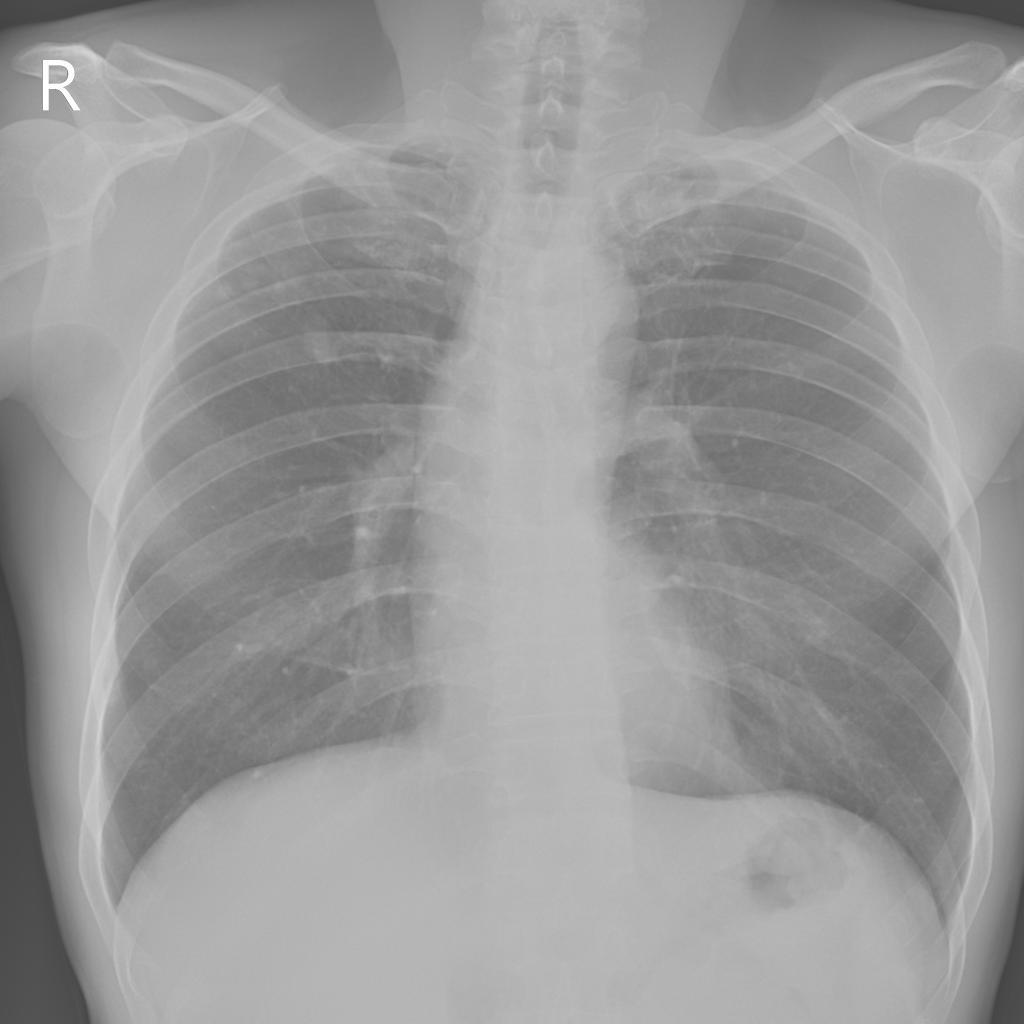Nodule: (304, 307, 344, 366)
